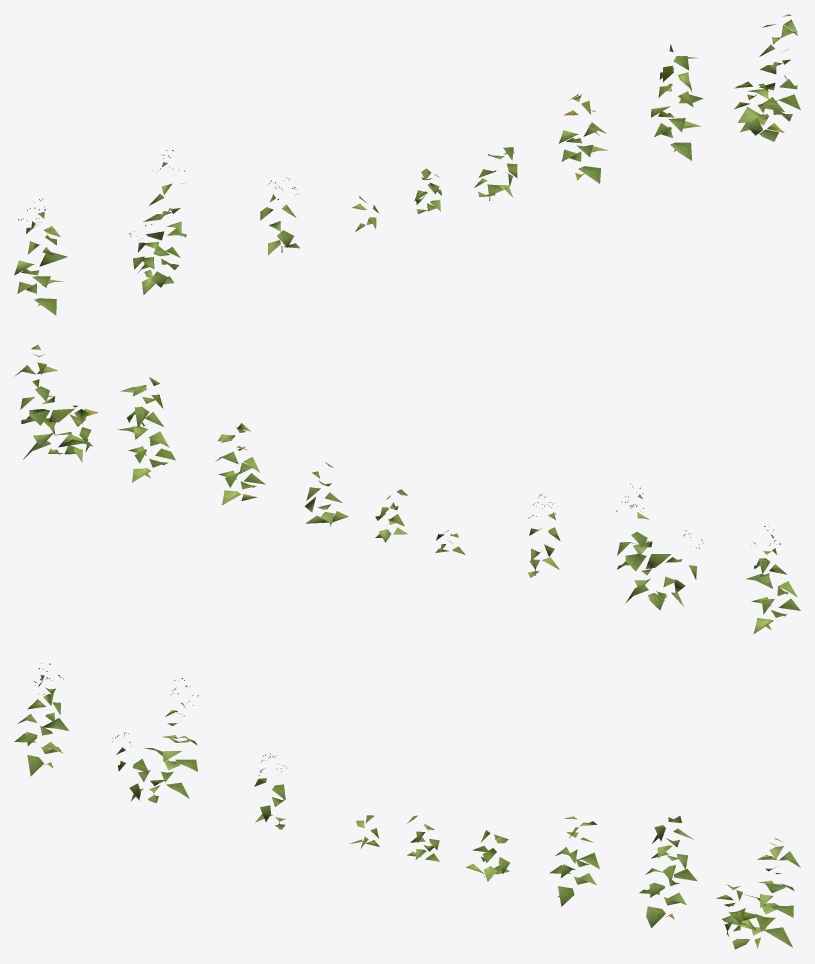
The model's file is shrub_01.glb.
The picture shows the model from 3 angles, top to bottom: view 1: azimuth 30°, elevation 25°; view 2: azimuth 150°, elevation 25°; view 3: azimuth 330°, elevation 25°; orthographic projection. The views are drawn at different scales.
Parts seen in each view (by area): view 1: shrub_01_a; view 2: shrub_01_a; view 3: shrub_01_a.
Boxes of the visible parts, x1,y1,x2,y2 form: shrub_01_a: (14,14,800,315); shrub_01_a: (14,344,800,634); shrub_01_a: (14,663,800,949).
Bounding box in the file's own units: 2.59 × 0.3915 × 0.208.
Materials: 1 (1 with a texture image).
